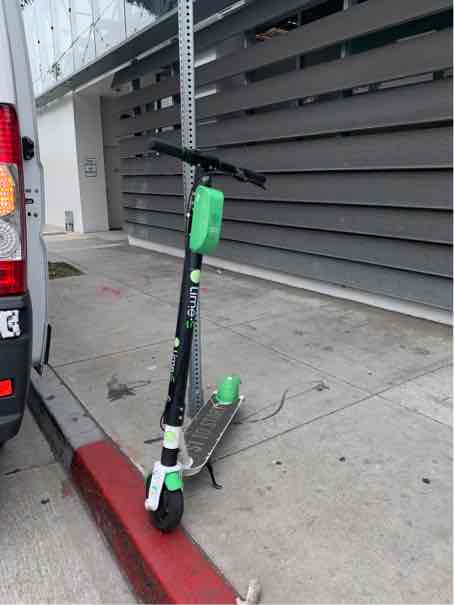too close: (92, 445, 214, 569)
